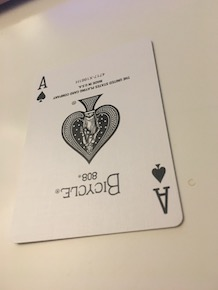AceOfSpades: (15, 38, 188, 247)
